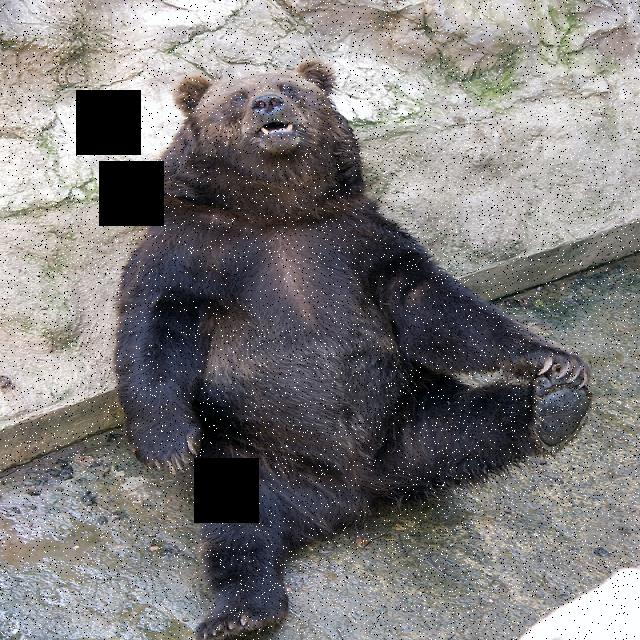Bear: (103, 55, 598, 636)
